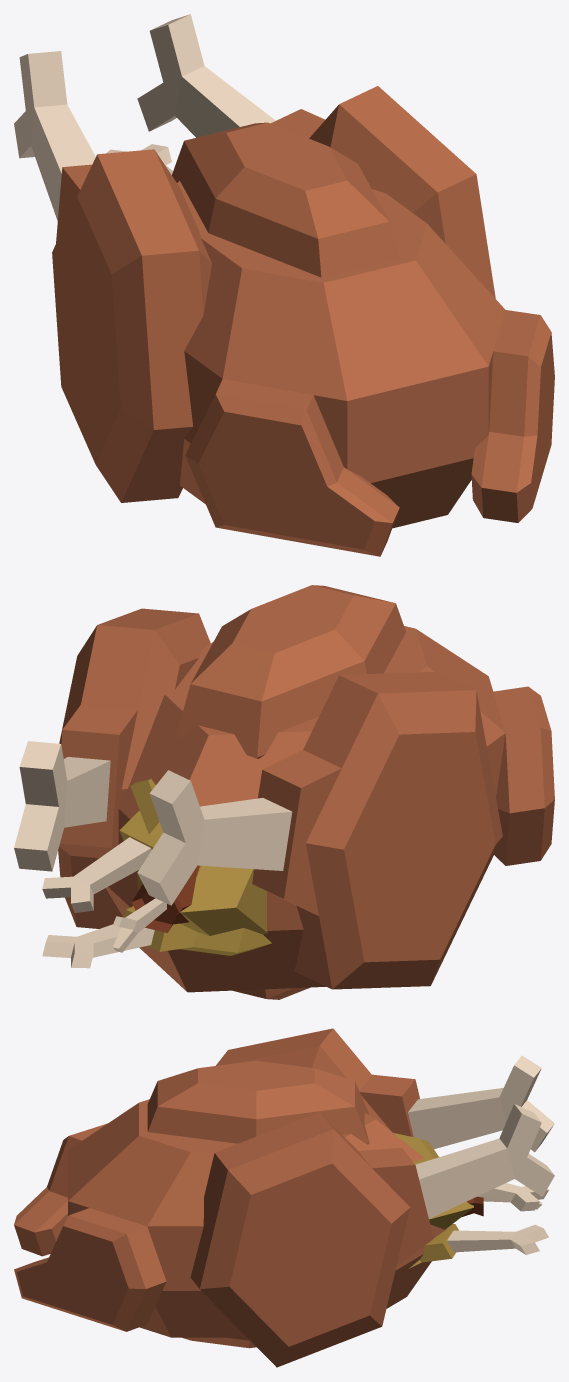
Rendered from turducken.fbx.
3 views of the same model, one above another, from view 1: azimuth 30°, elevation 25°; view 2: azimuth 150°, elevation 25°; view 3: azimuth 270°, elevation 25° (orthographic). The views are drawn at different scales.
Visible parts, largest first — view 1: mergedBlocks; view 2: mergedBlocks; view 3: mergedBlocks.
Part boxes in pixels (x1=…): mergedBlocks: x1=14, y1=14, x2=554, y2=556; mergedBlocks: x1=14, y1=585, x2=554, y2=999; mergedBlocks: x1=14, y1=1028, x2=554, y2=1367.
Size of the model in its own units: 9.24 by 8.25 by 15.7.
